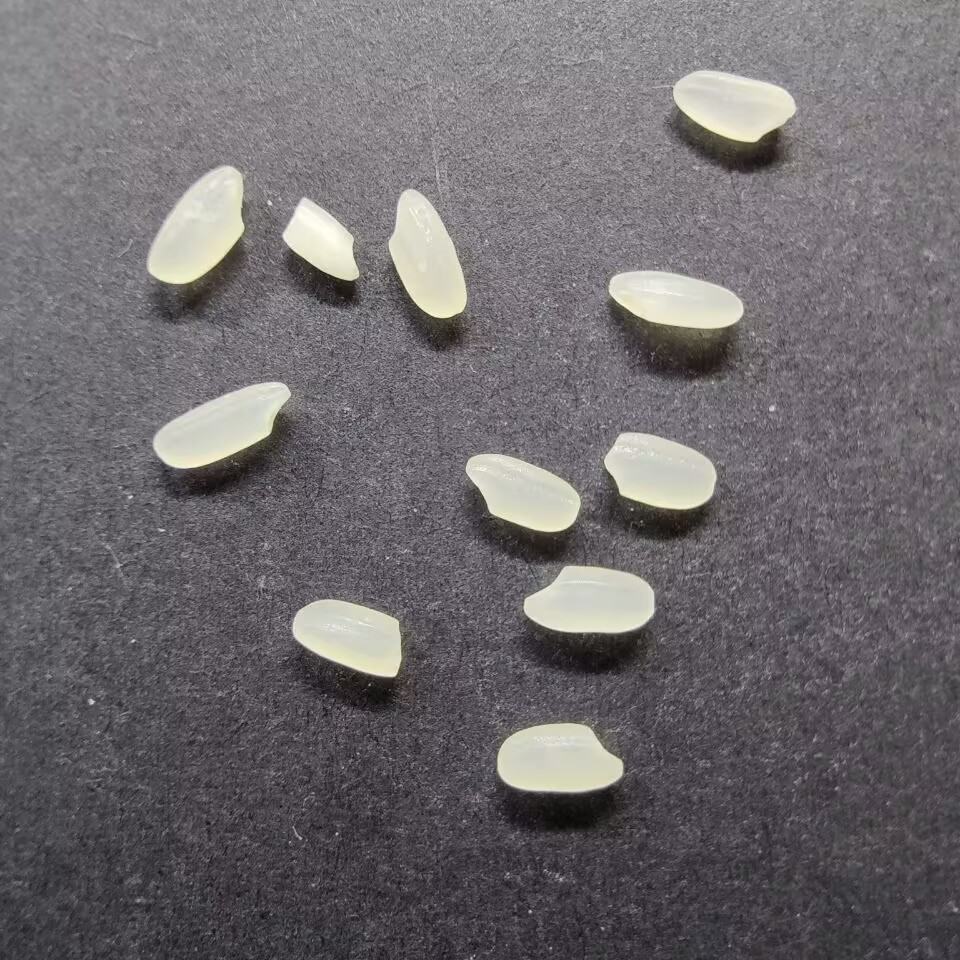broken: (603, 427, 716, 511), (290, 598, 406, 679), (280, 195, 360, 282)
rice: (149, 378, 292, 470), (144, 164, 249, 287), (385, 187, 469, 318), (519, 562, 657, 635), (463, 451, 582, 534), (494, 720, 626, 794), (670, 69, 798, 143), (605, 268, 745, 329)
